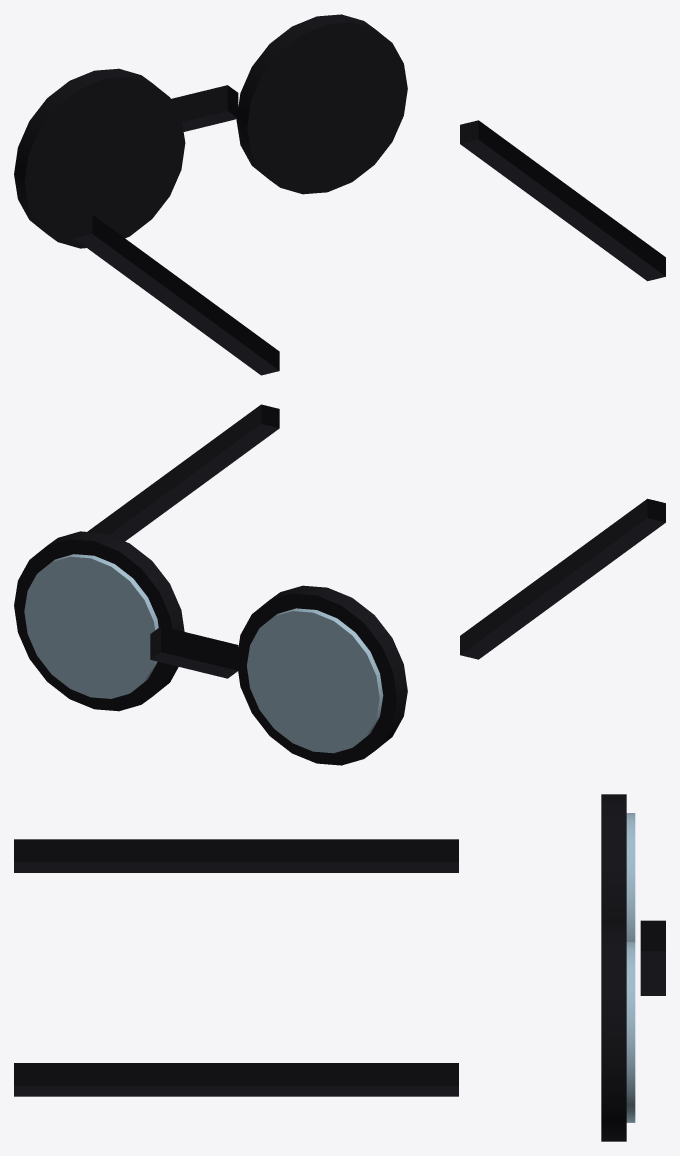
File: Glasses1.fbx
3 views of the same model, one above another, from view 1: azimuth 30°, elevation 25°; view 2: azimuth 150°, elevation 25°; view 3: azimuth 270°, elevation 25° (orthographic). The views are drawn at different scales.
Parts seen in each view (by area): view 1: Glasses1; view 2: Glasses1; view 3: Glasses1.
Boxes of the visible parts, x1=… form: Glasses1: x1=14, y1=14, x2=665, y2=375; Glasses1: x1=14, y1=404, x2=665, y2=765; Glasses1: x1=14, y1=794, x2=665, y2=1141.
Bounding box in the file's own units: 0.262 × 0.104 × 0.3077.
